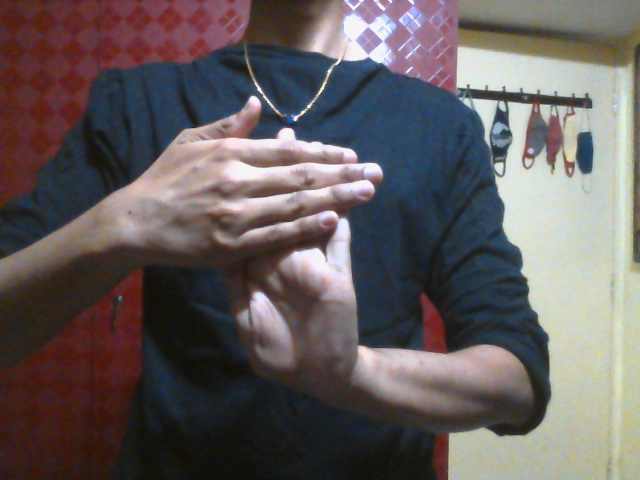H: (145, 95, 382, 386)
